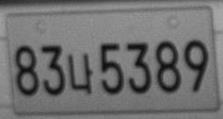3: (127, 42, 152, 94), (41, 44, 65, 96)
5: (99, 42, 124, 94)
8: (155, 40, 181, 92), (14, 44, 39, 95)
9: (184, 39, 208, 92)
나: (68, 52, 94, 94)
